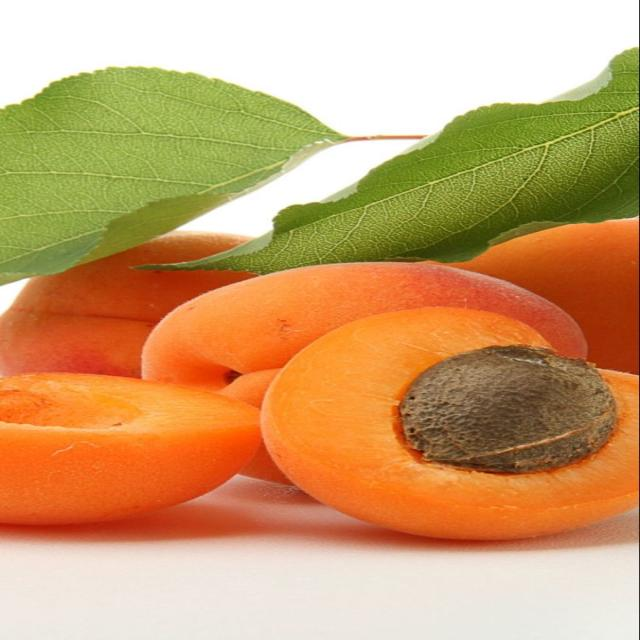kayisi: (142, 262, 588, 410), (0, 373, 262, 527), (0, 230, 258, 380), (462, 220, 638, 376)
kayisicekirdegi: (399, 346, 619, 477)
kayisiyapragi: (195, 49, 639, 276), (0, 67, 349, 287)
